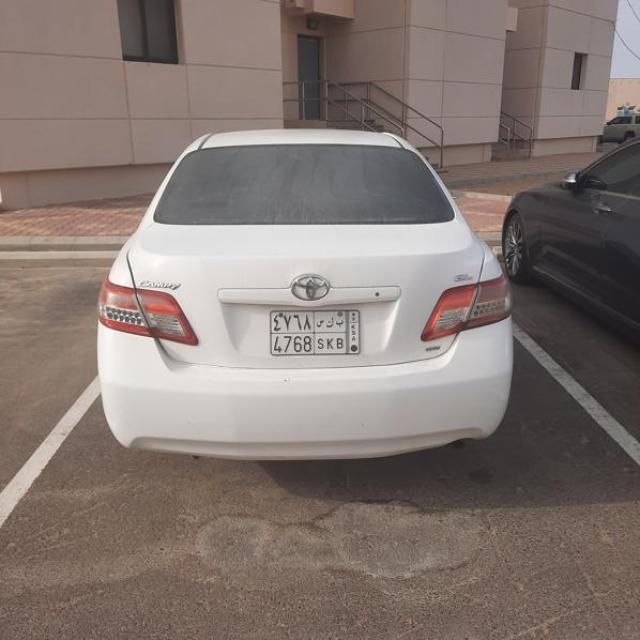license_plate: (270, 306, 360, 358)
